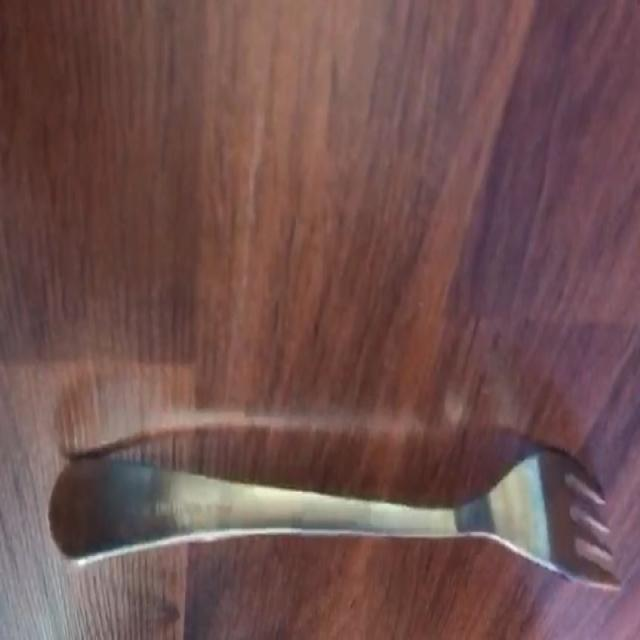spoon: (49, 450, 622, 587)
